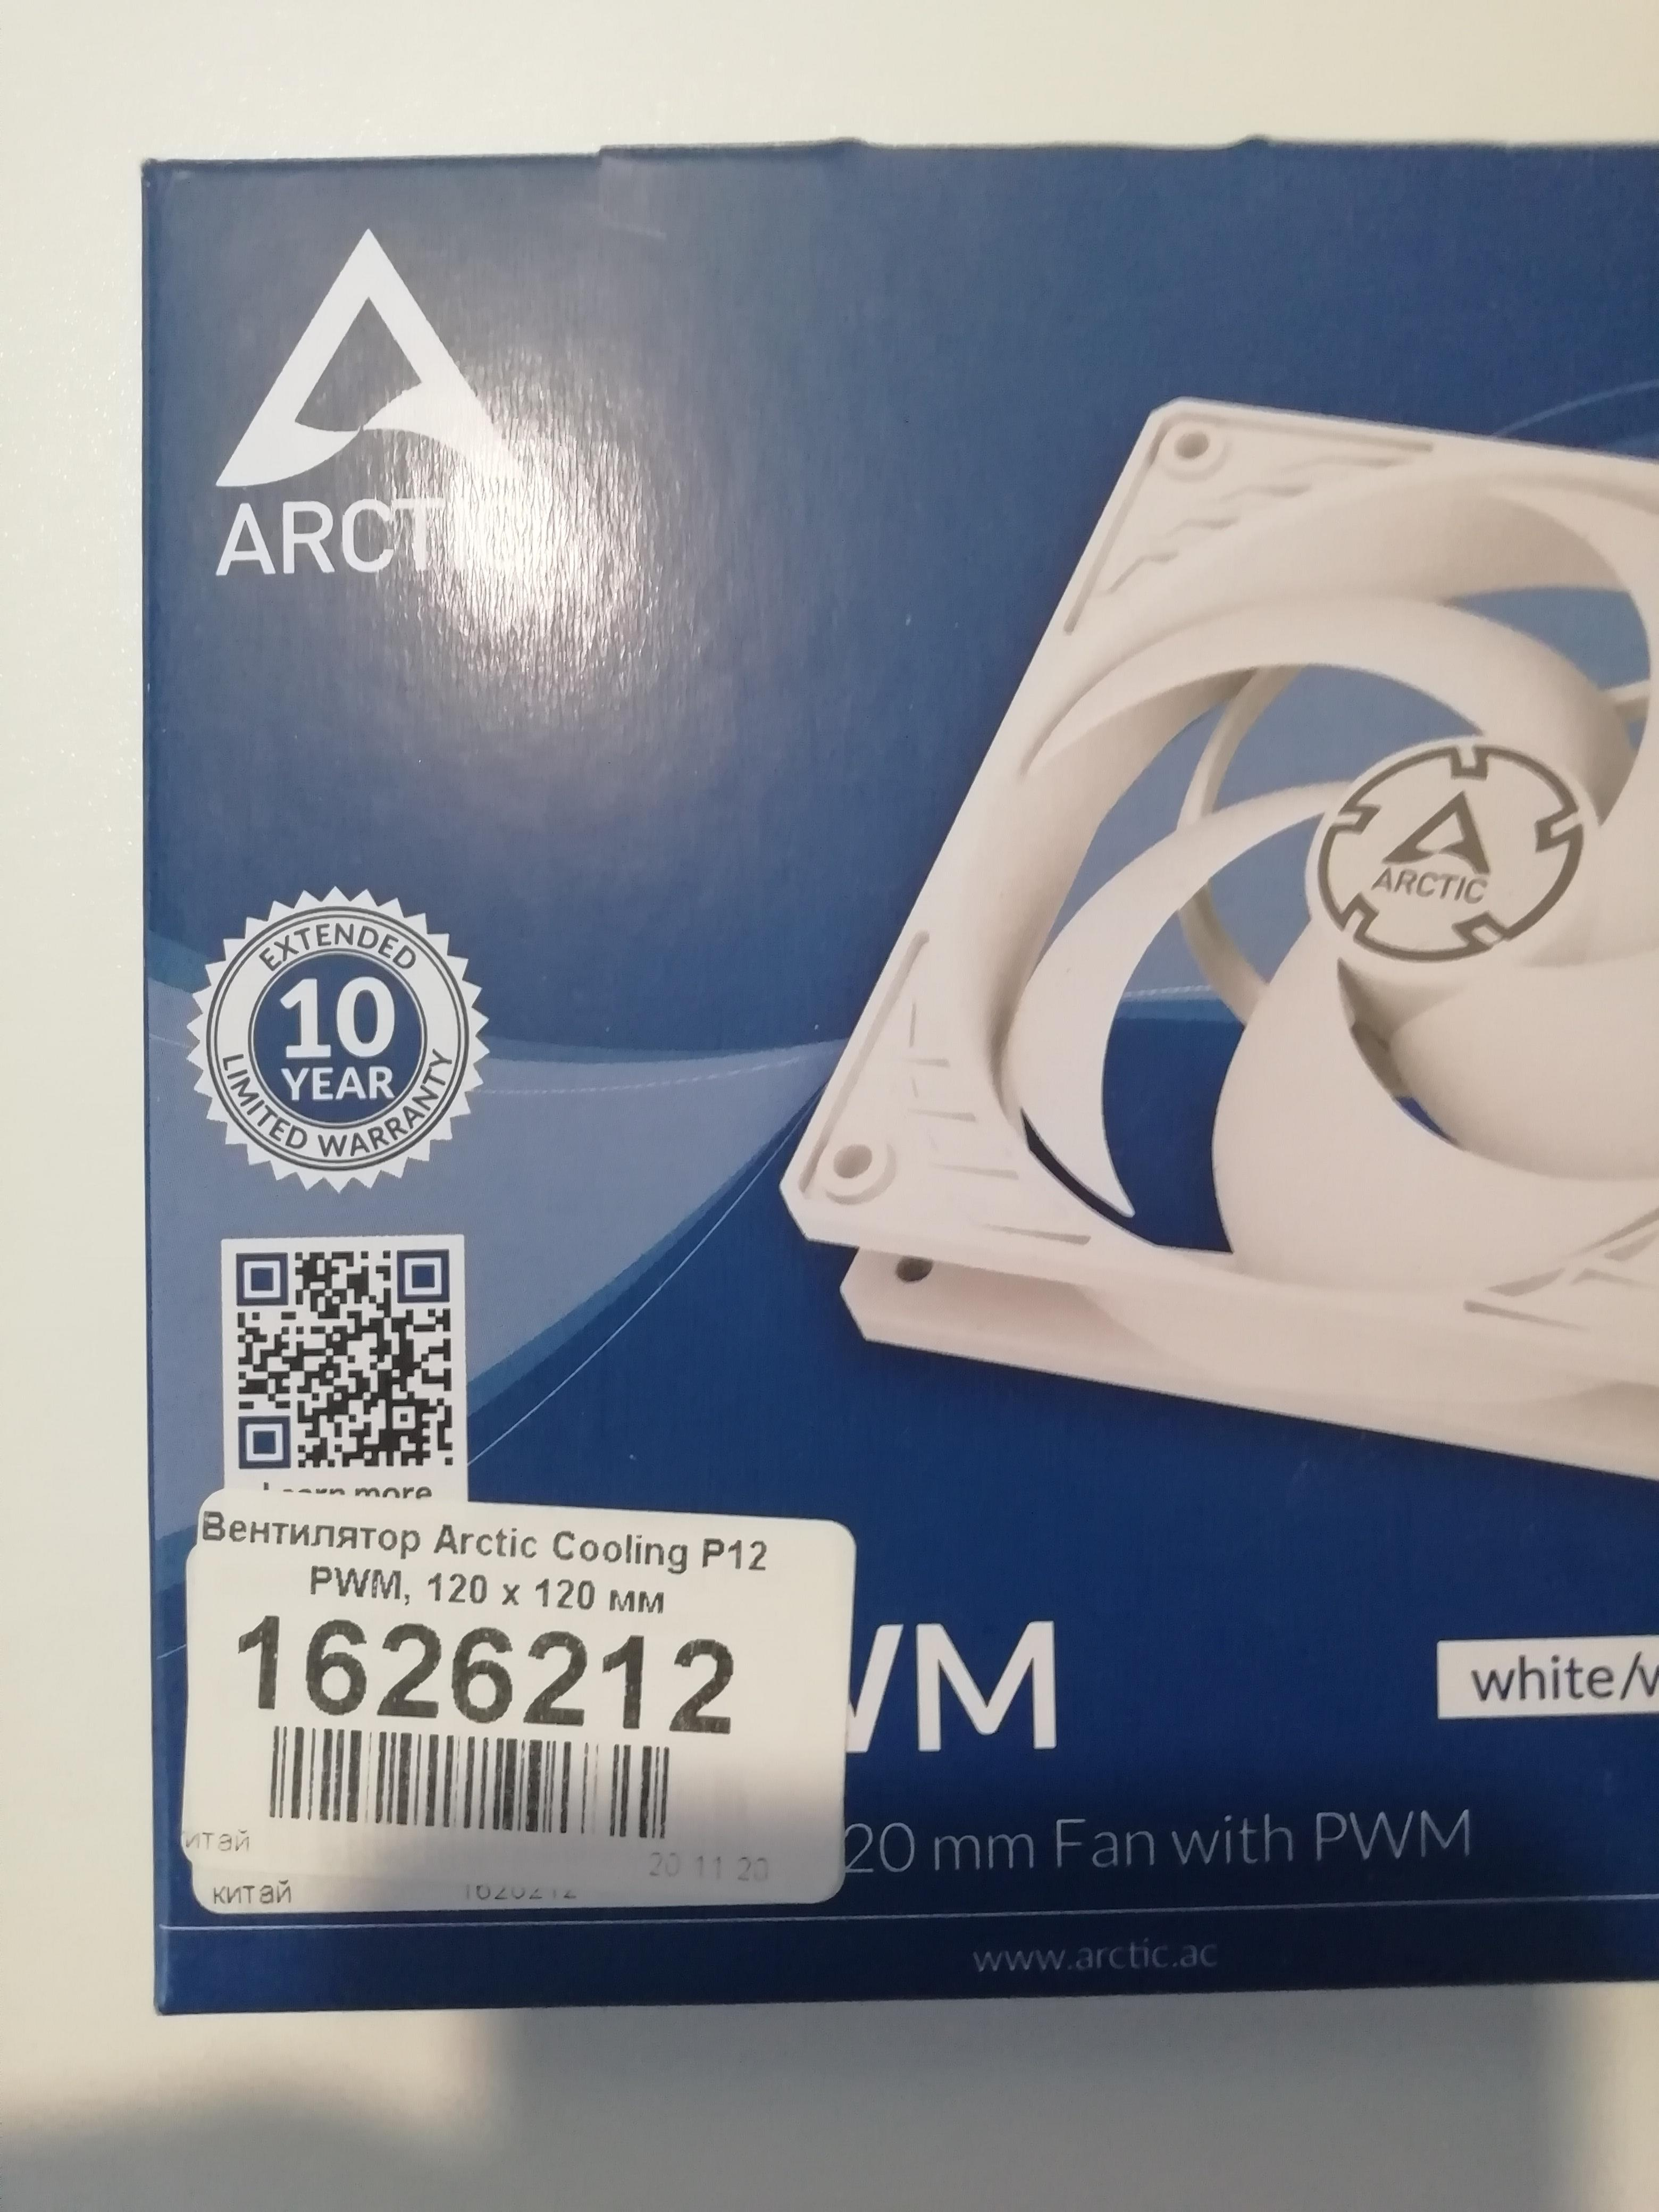qrcode: (235, 1251, 458, 1470)
